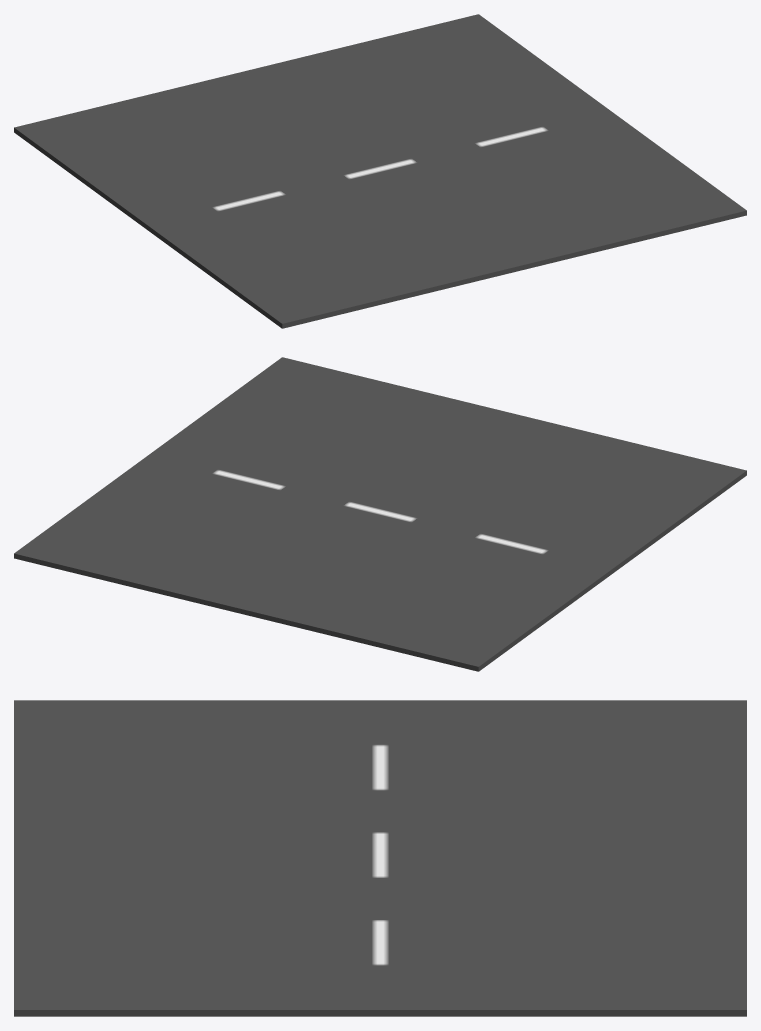
Rendered from RoadModule05.glb.
The picture shows the model from 3 angles, top to bottom: view 1: azimuth 30°, elevation 25°; view 2: azimuth 150°, elevation 25°; view 3: azimuth 270°, elevation 25°; orthographic projection. The views are drawn at different scales.
Visible parts, largest first — view 1: RoadModule05; view 2: RoadModule05; view 3: RoadModule05.
Boxes of the visible parts, x1=… form: RoadModule05: x1=14, y1=14, x2=746, y2=328; RoadModule05: x1=14, y1=357, x2=746, y2=671; RoadModule05: x1=14, y1=700, x2=746, y2=1016.
Size of what is drawn, in the model's own units: 10 by 0.1013 by 10.
Materials: 1 (1 with a texture image).
